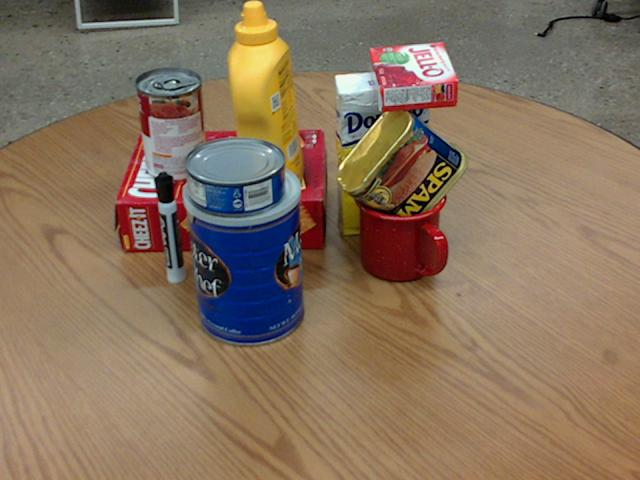cracker_box: (114, 131, 323, 252)
gelatin_box: (370, 42, 457, 110)
large_marker: (155, 173, 186, 283)
master_chef_can: (180, 156, 305, 344)
mug: (356, 172, 450, 282)
mustard_bottle: (228, 0, 303, 200)
potted_meat_can: (335, 104, 467, 233)
sugar_box: (335, 68, 430, 237)
tomato_soup_can: (134, 67, 206, 181)
tuna_fish_can: (183, 135, 285, 214)
